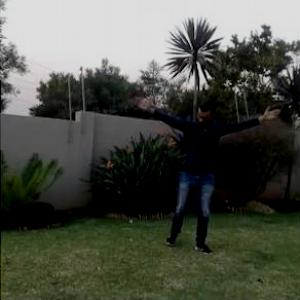takeoff: (137, 92, 275, 259)
